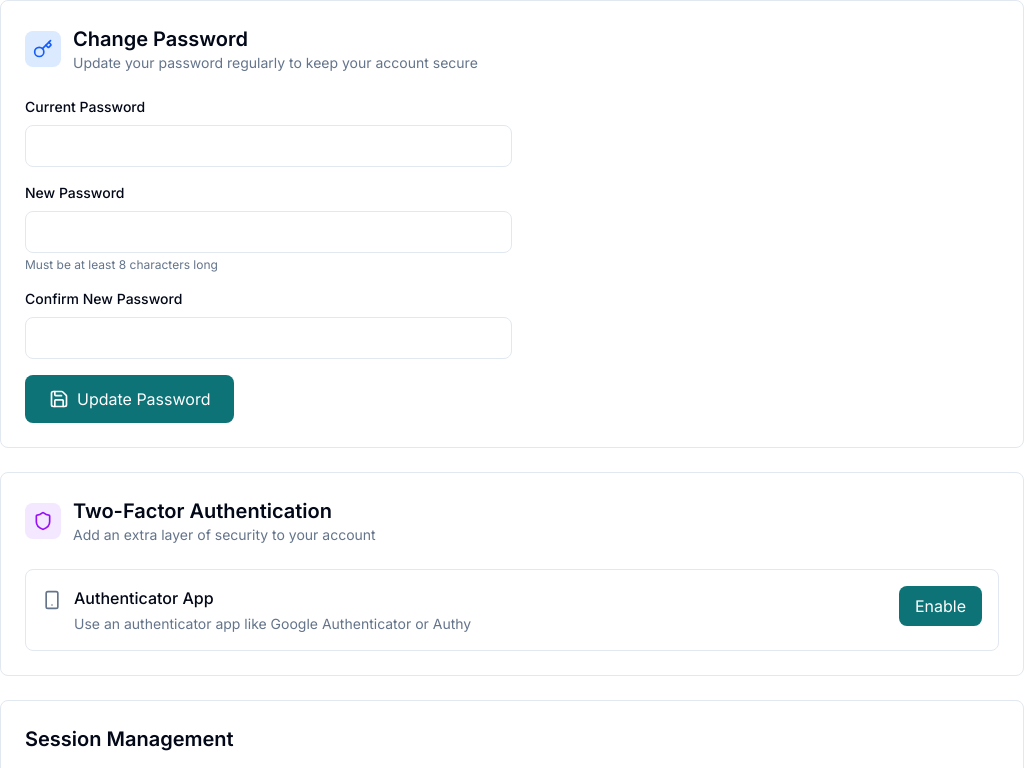
Test: SecuritySettings › should show error if new password is too short
The width and height of the screenshot is (1024, 768).
Type "oldpassword123" into the password field labelled "Current Password" at (268, 146), box [25,125,512,167]
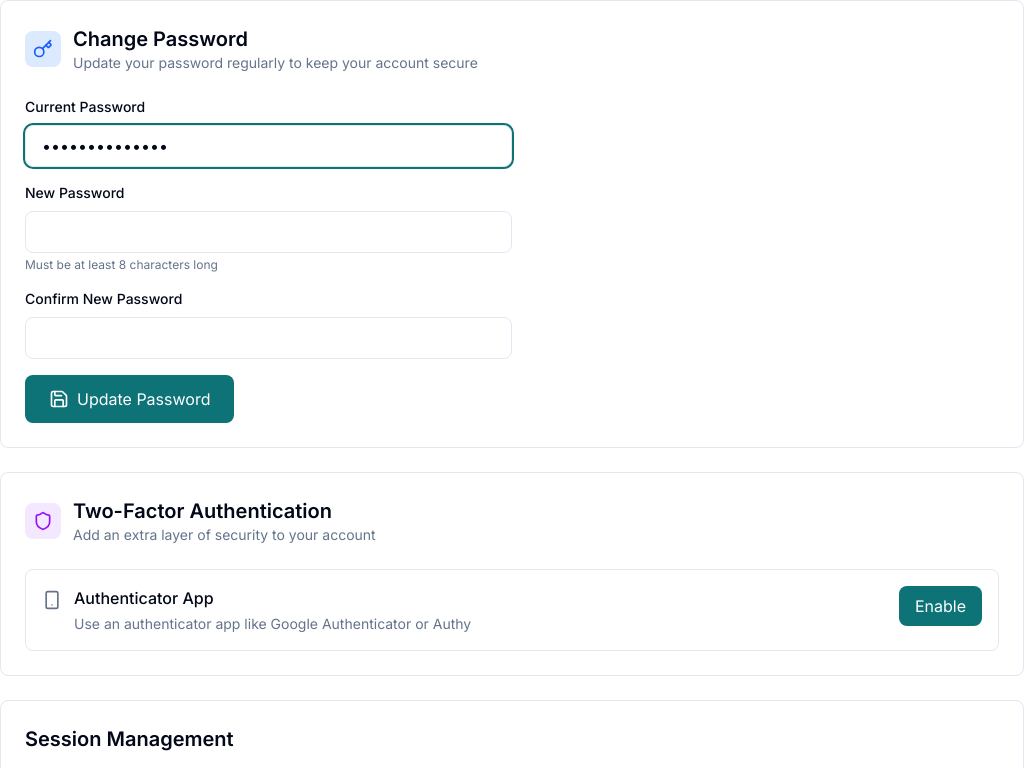
Type "short" into the password field labelled "New Password" at (268, 232), box [25,211,512,253]
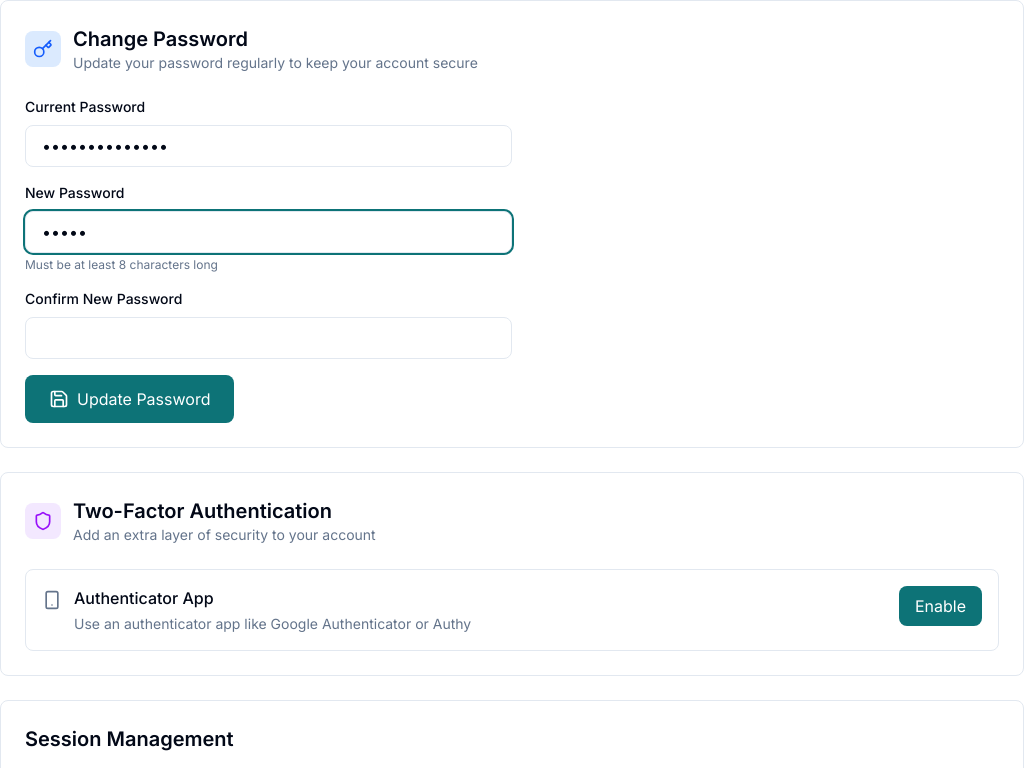
Type "short" into the password field labelled "Confirm New Password" at (268, 338), box [25,317,512,359]
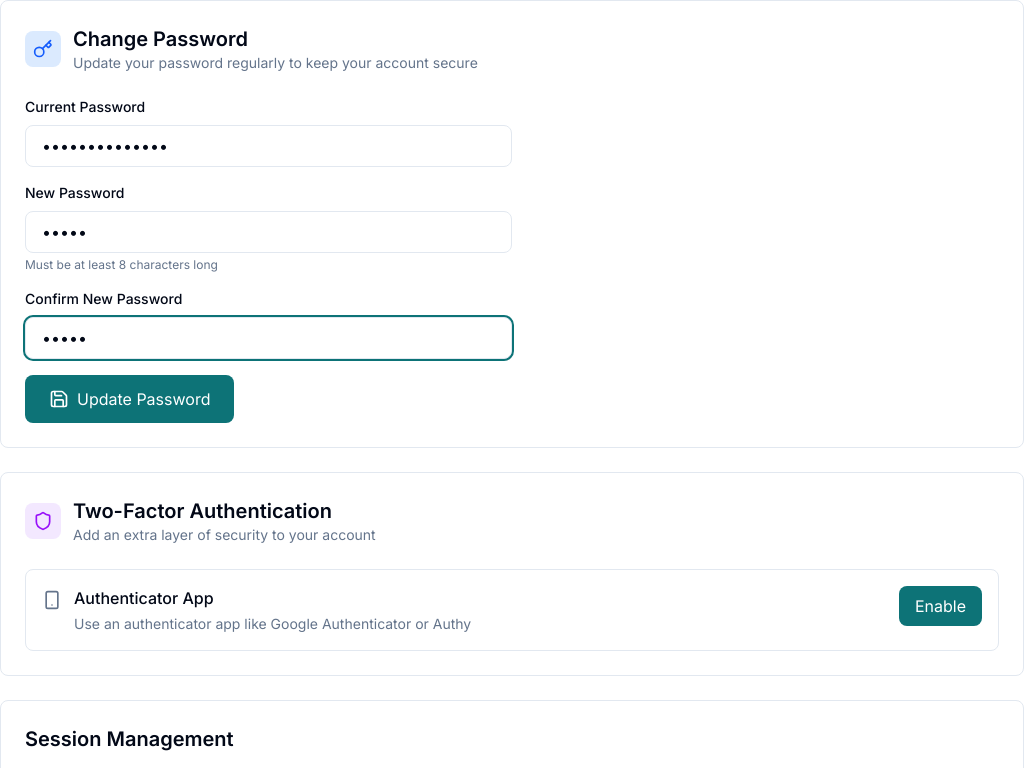
Click the button "Update Password" at (130, 399), box [25,375,234,423]
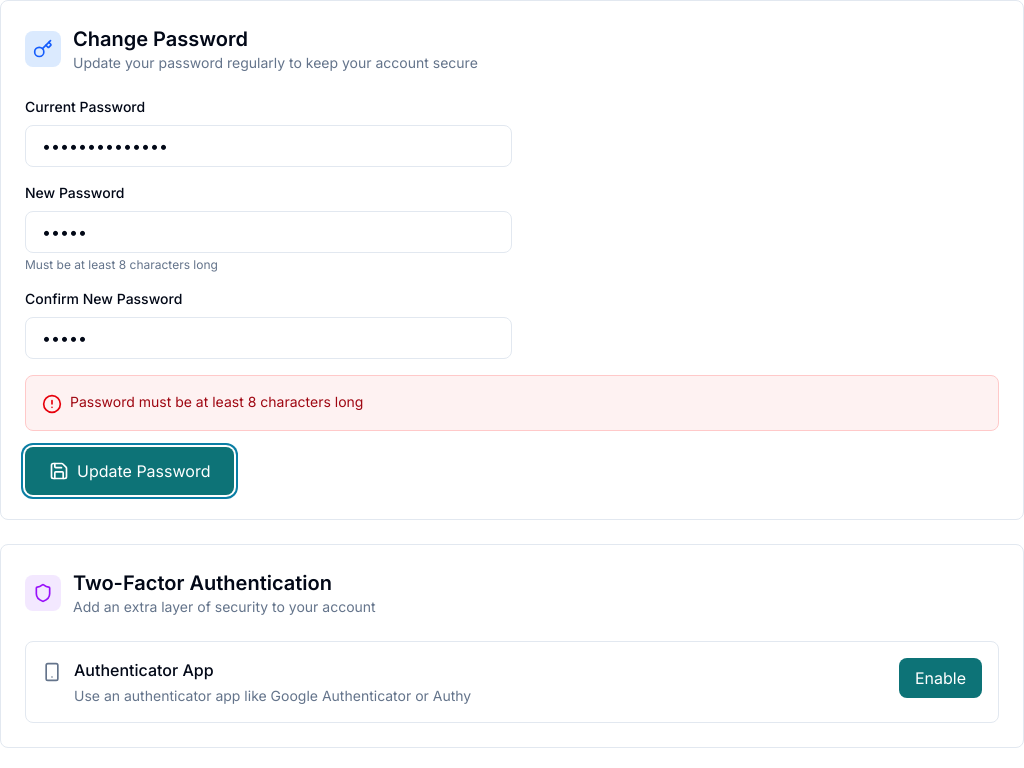
Expected: the text "Password must be at least 8 characters long" is shown, [70,392,363,412]
